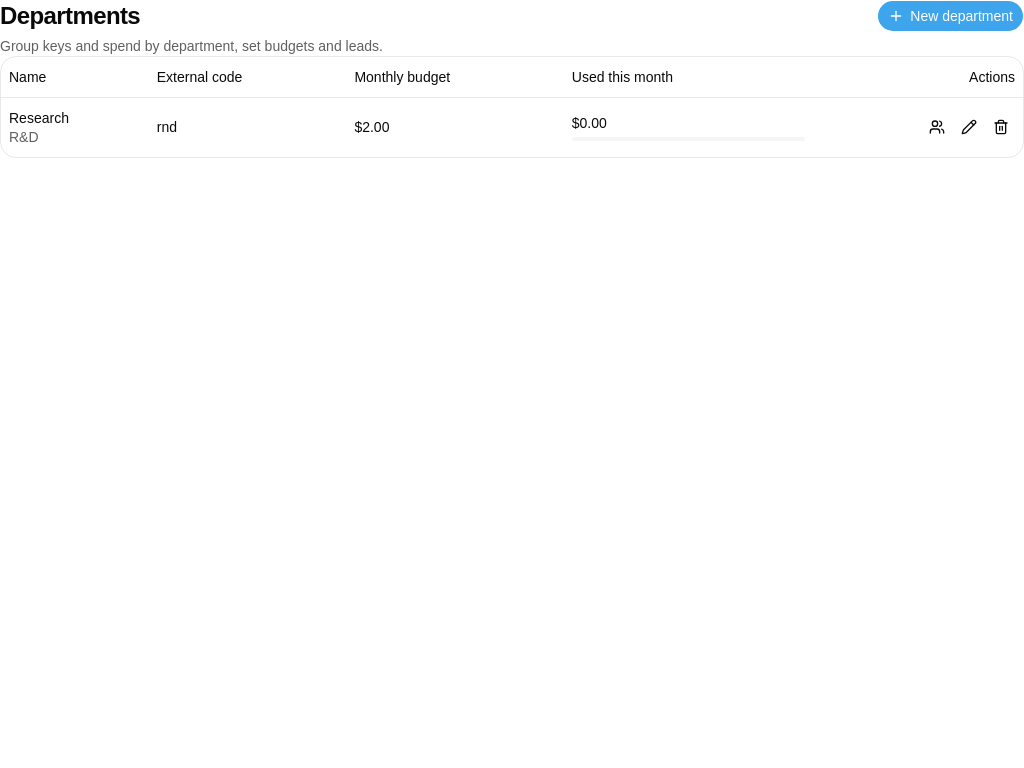
Test: OrgDepartmentsPage as tenant admin › member list failure is an error, not an empty list
Click the button named "Members of Research" at (937,127), box [923, 113, 951, 141]
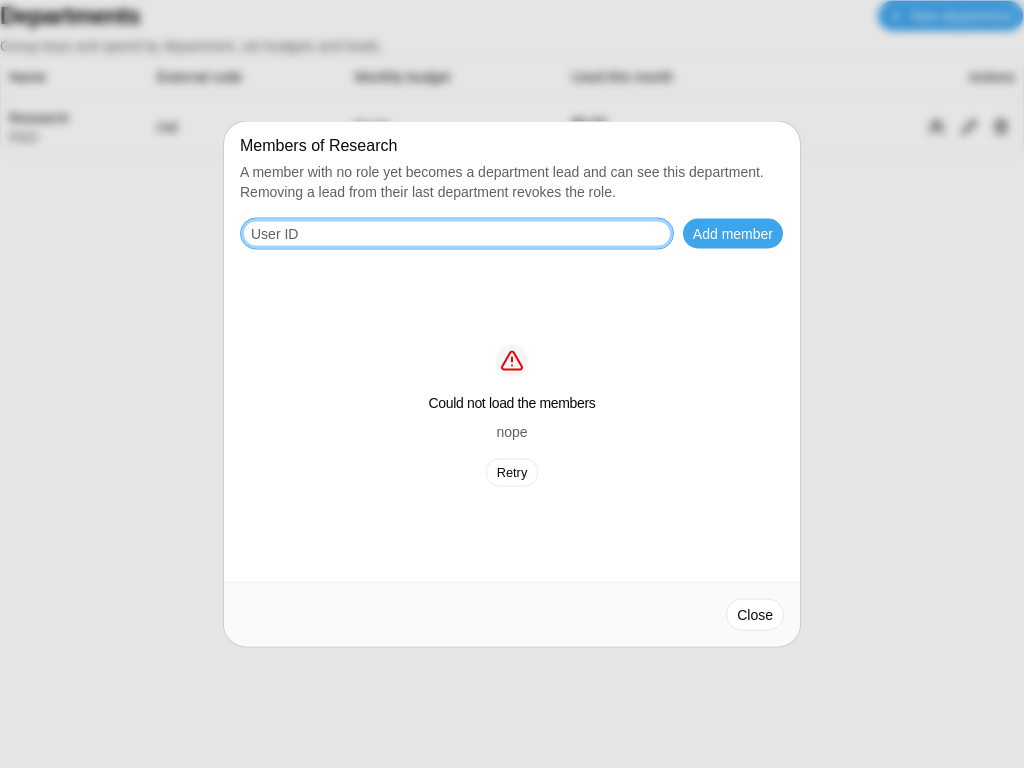
Expected: the text "Could not load the members" is shown, [429, 392, 595, 412]
